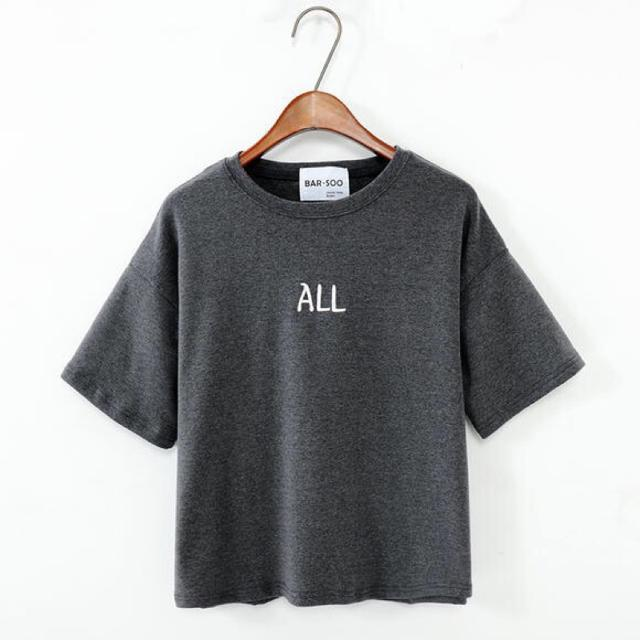Tops: (59, 146, 585, 608)
